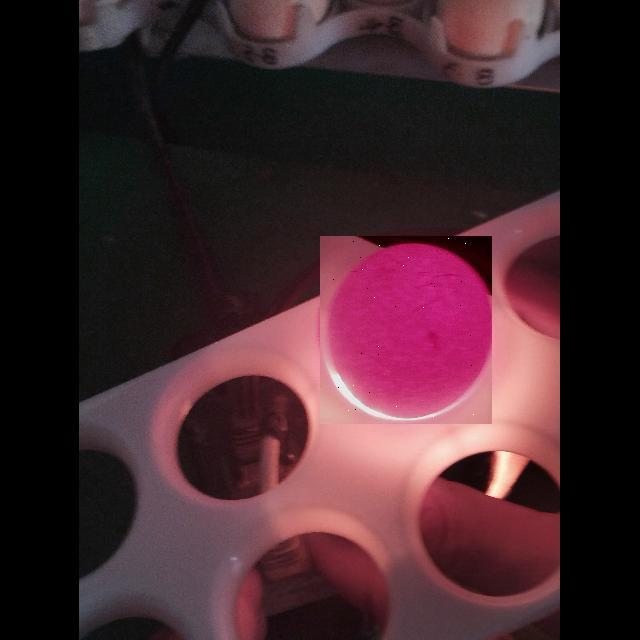Infertile: (320, 236, 492, 424)
